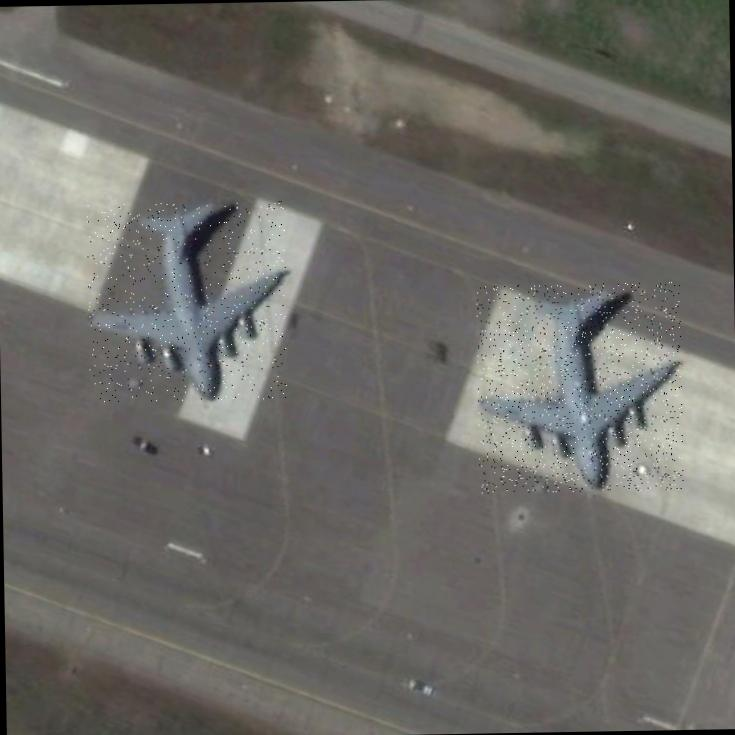A3: (476, 282, 684, 494), (87, 200, 288, 402)
